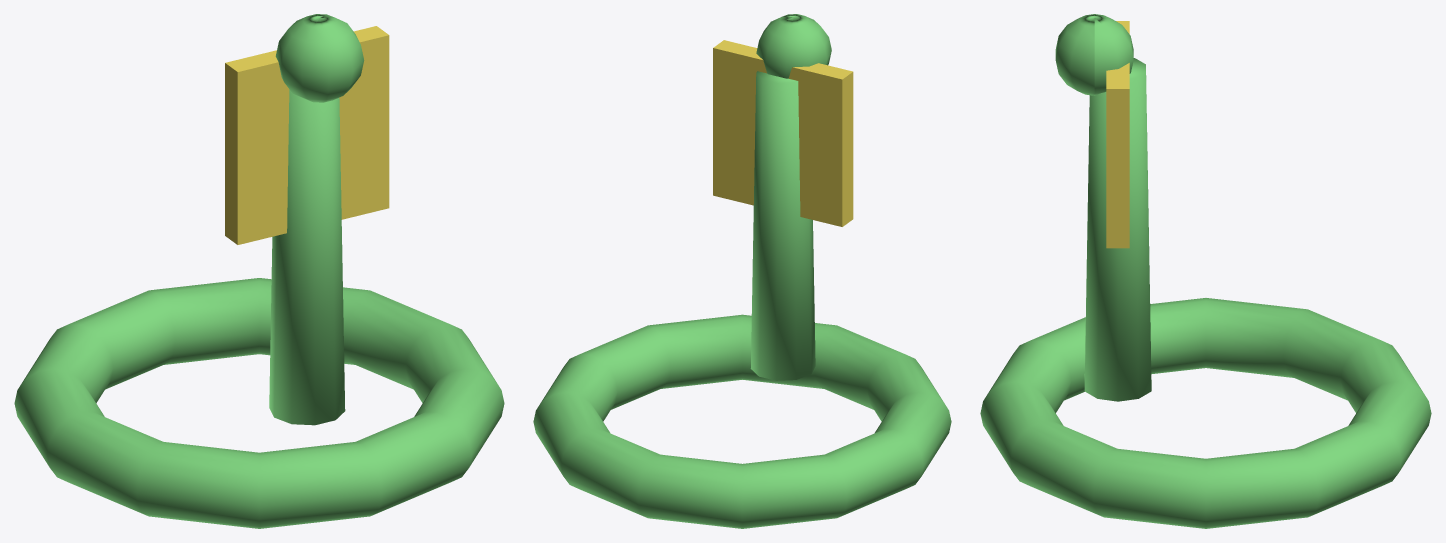
File: c894cc54-10da-4932-9bcf-02f25c460cb0.glb
3 views of the same model, side by side, from view 1: azimuth 30°, elevation 25°; view 2: azimuth 150°, elevation 25°; view 3: azimuth 270°, elevation 25° (orthographic). The views are drawn at different scales.
Parts seen in each view (by area): view 1: Generated3DMesh; view 2: Generated3DMesh; view 3: Generated3DMesh.
Part boxes in pixels (x1,y1,x2,y2): Generated3DMesh: (14,14,504,528); Generated3DMesh: (533,14,951,528); Generated3DMesh: (980,14,1431,528).
Size of the model in its own units: 1.54 by 1.61 by 1.54.
